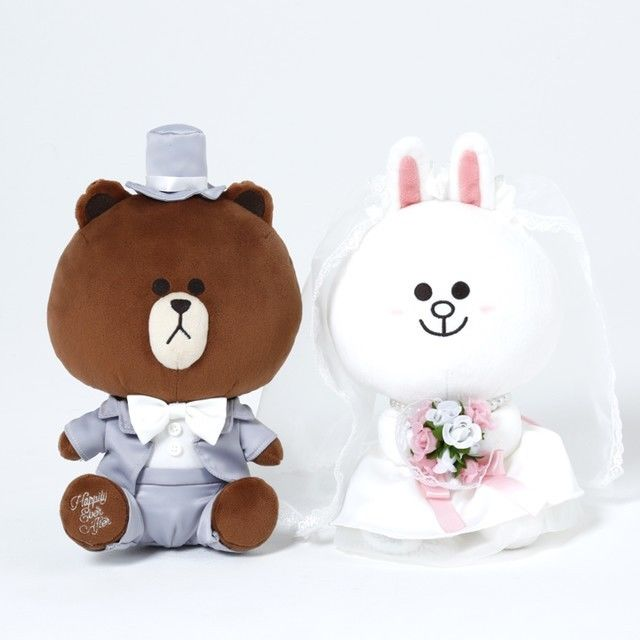line_brown: (41, 172, 310, 406)
